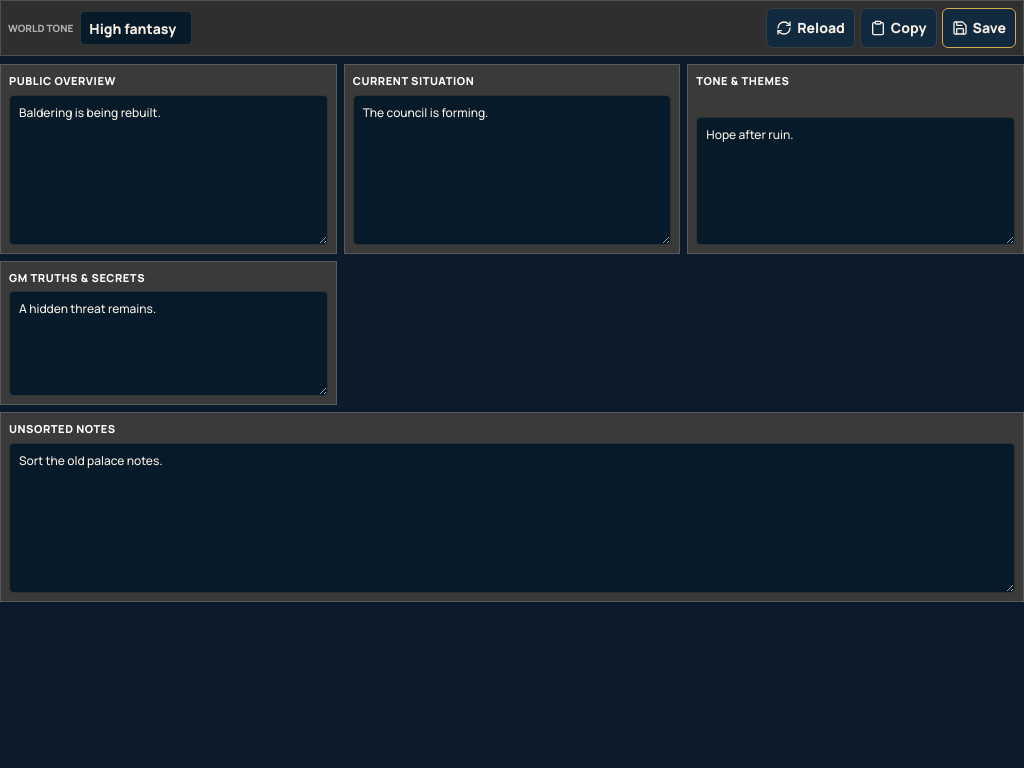
CampaignSettingTab reliability › keeps last-known-good notes visible when a later reload fails
This screenshot has width=1024, height=768.
expect the text box labelled "Public Overview" holds "Baldering is being rebuilt.": met, box [9, 94, 328, 244]
expect the dropdown labelled "World tone" shows "High fantasy": met, box [80, 11, 192, 45]
Click the button with test id "campaign-setting-reload". click: (810, 28)
box: [766, 8, 855, 48]
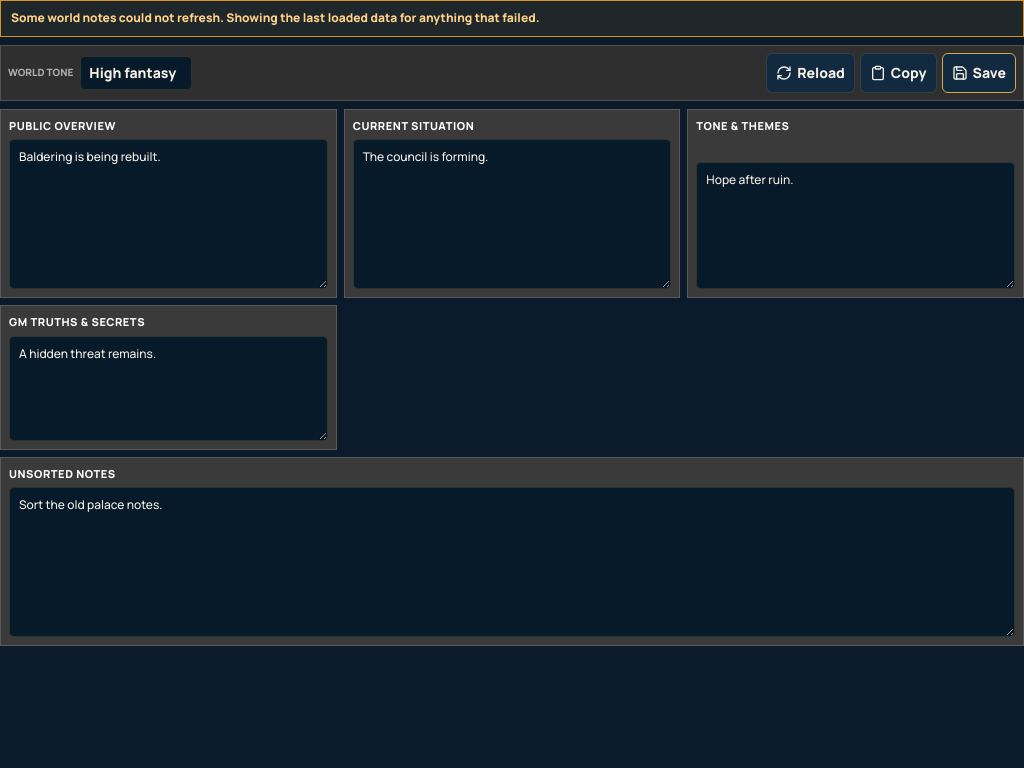
expect the text box labelled "Public Overview" holds "Baldering is being rebuilt.": met, box [9, 139, 328, 289]
expect the message with test id "campaign-setting-warning" shows "Some world notes could not refresh. Showing the last loaded data for anything that failed.": met, box [11, 9, 540, 26]
